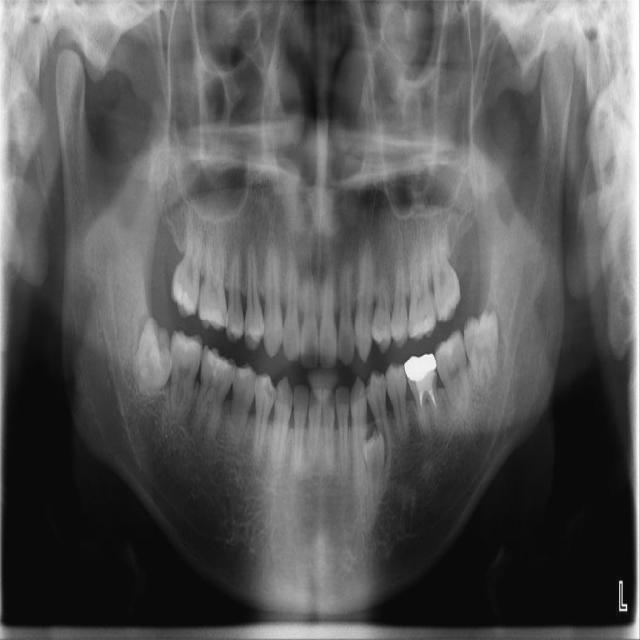Crown: (404, 352, 437, 389)
Filling: (174, 269, 193, 313), (206, 348, 232, 380), (411, 310, 436, 339), (197, 306, 225, 327), (437, 337, 454, 360)
impacted tooth: (133, 316, 175, 401), (464, 312, 501, 391), (363, 428, 391, 531)
